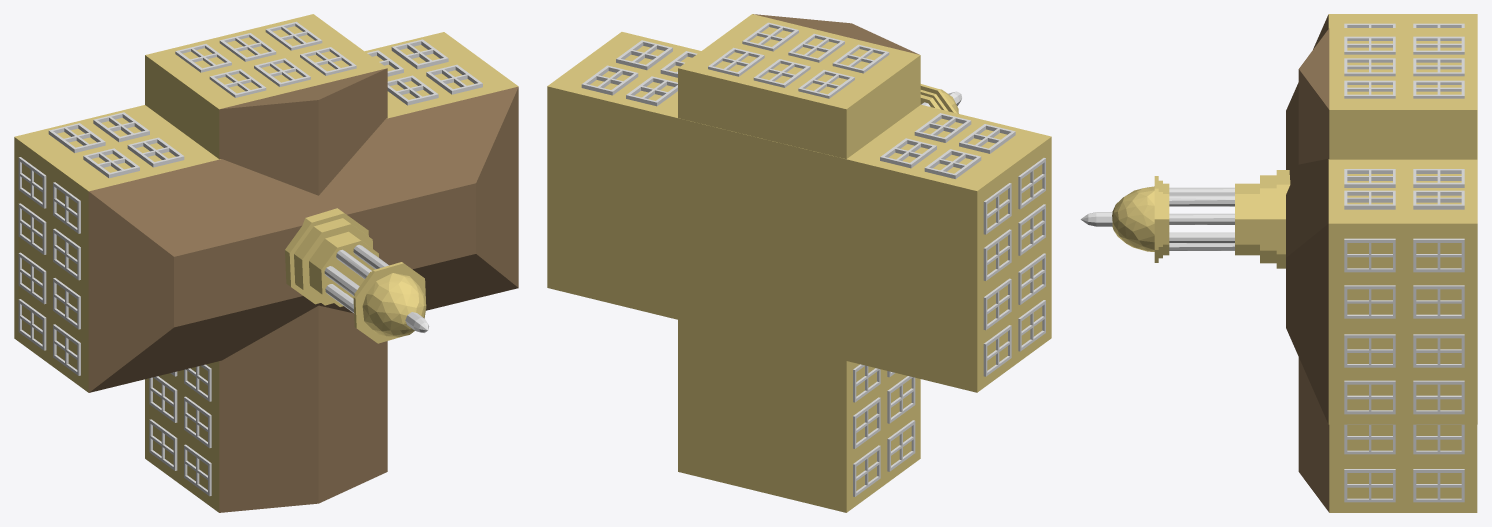
The model's file is nassauSmall.glb.
3 views of the same model, side by side, from view 1: azimuth 30°, elevation 25°; view 2: azimuth 150°, elevation 25°; view 3: azimuth 270°, elevation 25° (orthographic).
Parts seen in each view (by area): view 1: Cube.054, Cube.055, Cube.062, Cylinder.024, Cube.065, Cube.057, Cube.066, Icosphere.001, Cube.056, Cylinder.025, Cylinder.026; view 2: Cube.054, Cube.055, Cube.062, Cube.065, Cube.057, Cube.066, Cube.056, Cylinder.026; view 3: Cube.054, Cube.055, Cube.061, Cube.065, Cylinder.024, Cube.056, Cylinder.025, Cube.064, Icosphere.001, Cylinder.026, Cube.057.
Part boxes in pixels (left/top/right/bottom): Cube.054: left=14, top=32, right=518, bottom=392; Cube.055: left=145, top=14, right=387, bottom=512; Cube.062: left=18, top=157, right=80, bottom=375; Cylinder.024: left=285, top=208, right=378, bottom=306; Cube.065: left=175, top=21, right=356, bottom=97; Cube.057: left=48, top=112, right=184, bottom=178; Cube.066: left=149, top=364, right=211, bottom=496; Icosphere.001: left=362, top=273, right=426, bottom=337; Cube.056: left=367, top=39, right=482, bottom=105; Cylinder.025: left=324, top=244, right=388, bottom=313; Cylinder.026: left=353, top=262, right=426, bottom=343; Cube.054: left=547, top=32, right=1051, bottom=392; Cube.055: left=678, top=14, right=920, bottom=512; Cube.062: left=983, top=158, right=1045, bottom=376; Cube.065: left=708, top=22, right=889, bottom=98; Cube.057: left=880, top=113, right=1015, bottom=178; Cube.066: left=853, top=364, right=915, bottom=496; Cube.056: left=581, top=40, right=697, bottom=106; Cylinder.026: left=920, top=84, right=956, bottom=113; Cube.054: left=1286, top=14, right=1477, bottom=424; Cube.055: left=1298, top=28, right=1477, bottom=512; Cube.061: left=1344, top=238, right=1464, bottom=414; Cube.065: left=1344, top=36, right=1464, bottom=98; Cylinder.024: left=1235, top=170, right=1290, bottom=268; Cube.056: left=1344, top=169, right=1464, bottom=209; Cylinder.025: left=1169, top=187, right=1234, bottom=250; Cube.064: left=1344, top=424, right=1464, bottom=502; Icosphere.001: left=1112, top=186, right=1154, bottom=251; Cylinder.026: left=1154, top=176, right=1169, bottom=262; Cube.057: left=1344, top=23, right=1464, bottom=27.
Size of what is drawn, in the model's own units: 0.954 by 0.8573 by 0.7569.
